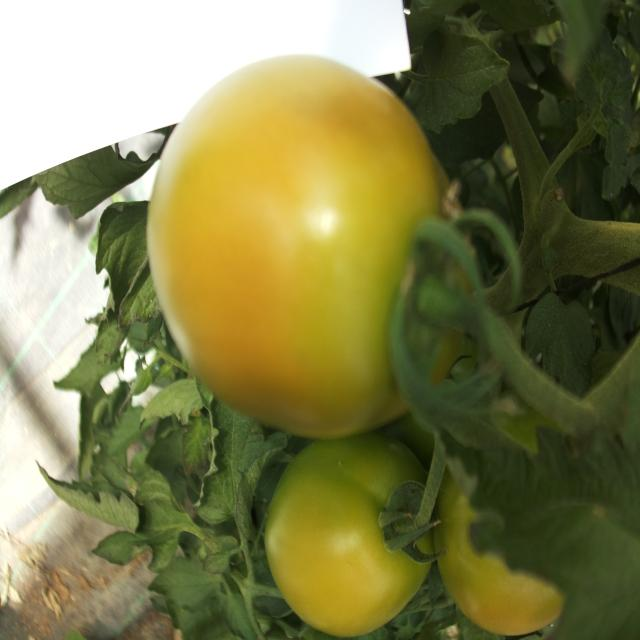sari: (137, 82, 508, 425)
